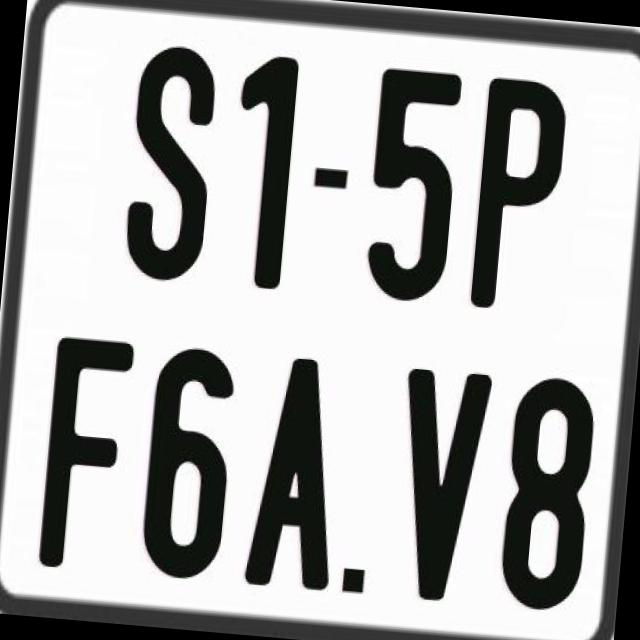1: (220, 53, 296, 297)
5: (362, 65, 462, 300)
6: (134, 341, 236, 576)
8: (496, 374, 606, 622)
A: (243, 352, 349, 589)
F: (34, 332, 138, 569)
P: (467, 76, 572, 315)
S: (122, 39, 220, 278)
V: (385, 364, 495, 608)
